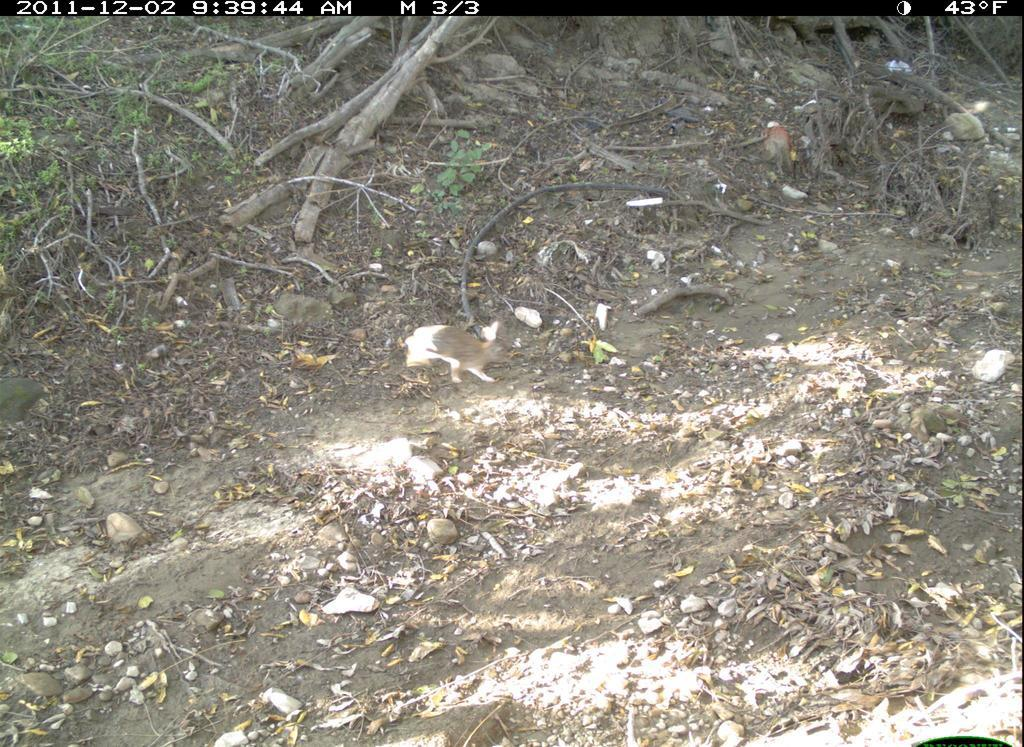rabbit: (388, 305, 514, 401)
